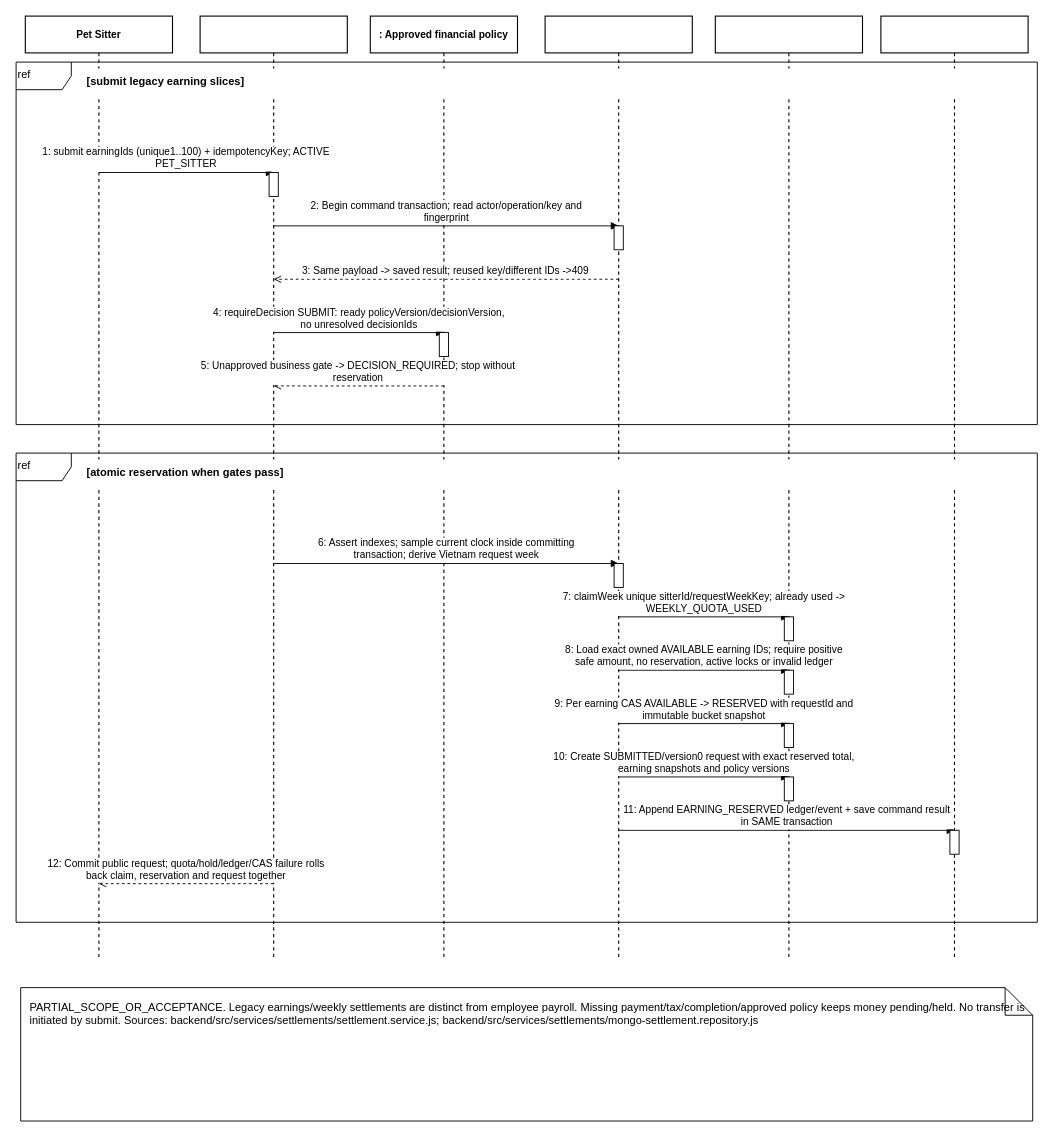
The diagram is 1053 pixels wide and 1138 high, and some of its shapes have lost their labels. Each missing label, with the box of its shape:
: Command + ledger event: (880, 15, 1028, 960)
: Earnings / claims / request DB: (714, 15, 863, 960)
: Mongo settlement repository: (544, 15, 692, 960)
: SettlementService: (199, 15, 347, 960)
